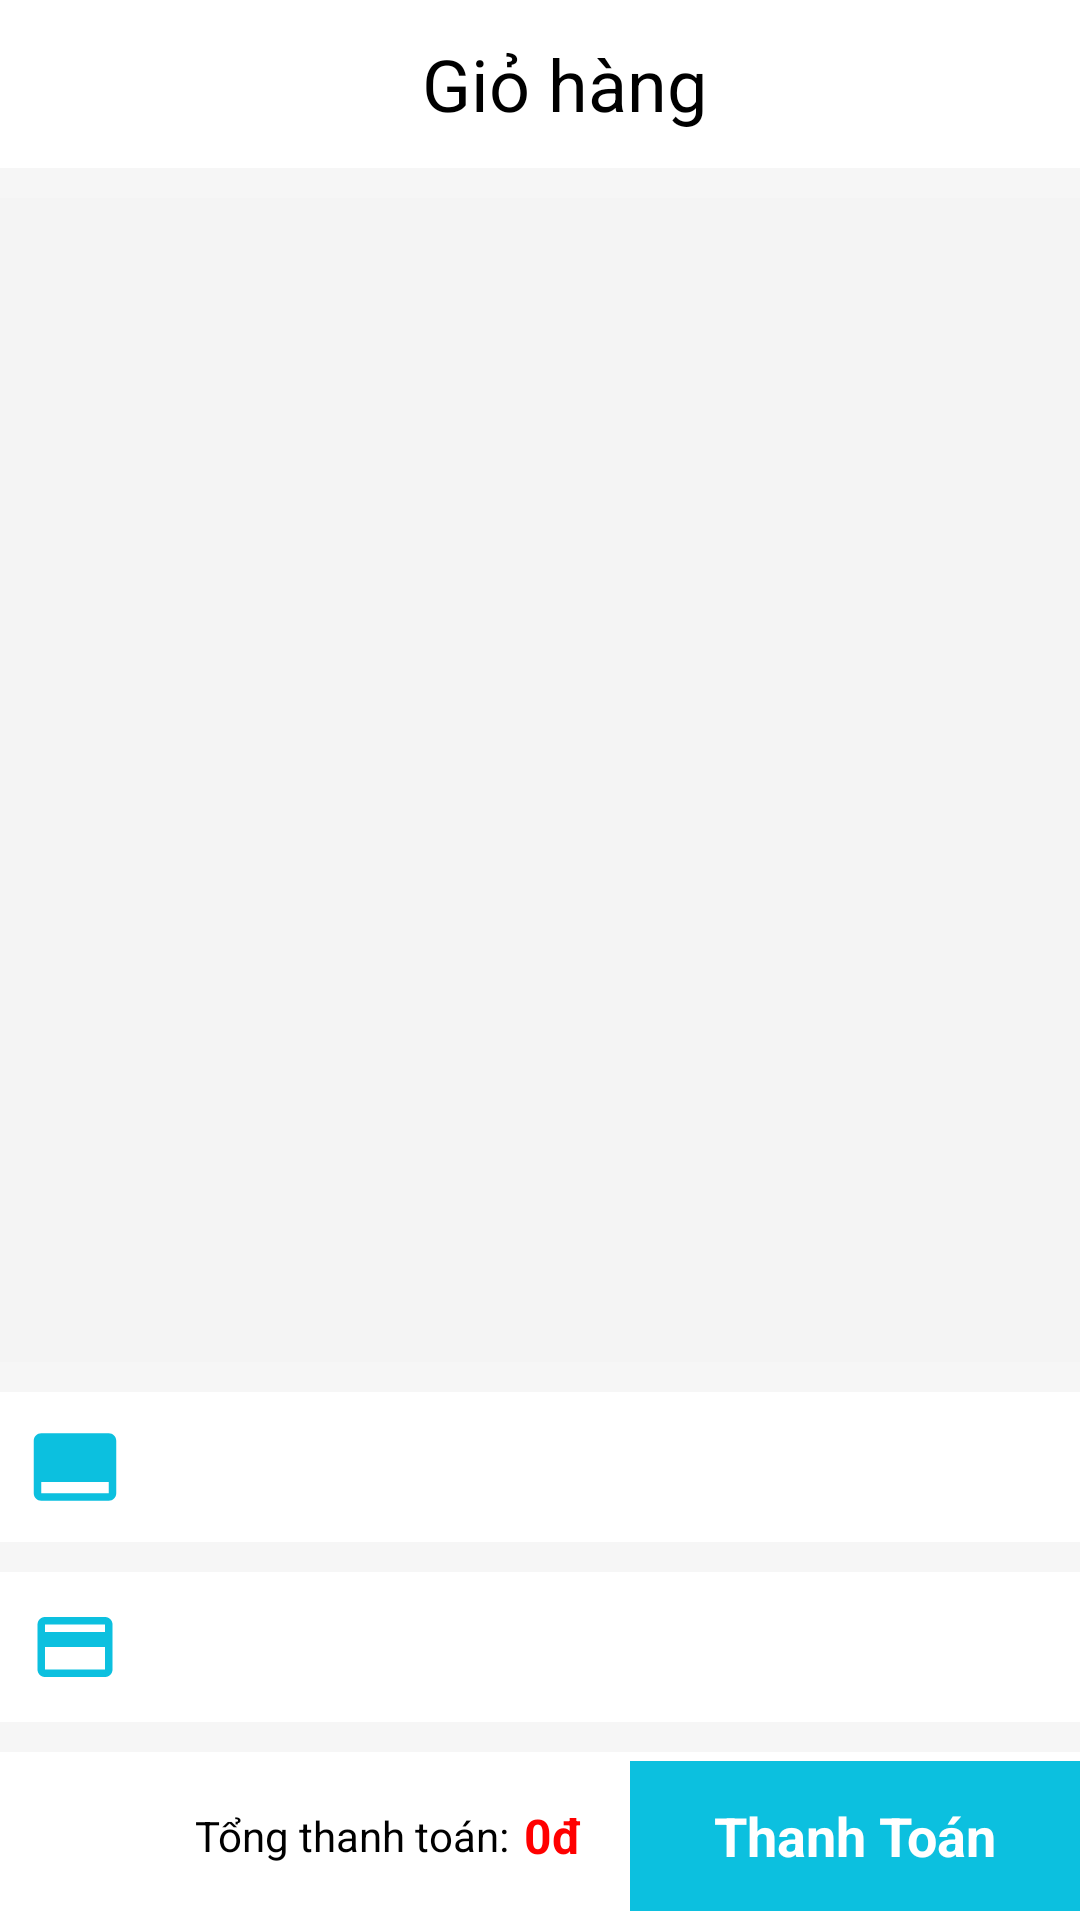

Icons on this 1080px x 1920px Android screen, each with the point to tap as (x,y):
call to action: (75,1467)
credit card xanh: (75,1647)
